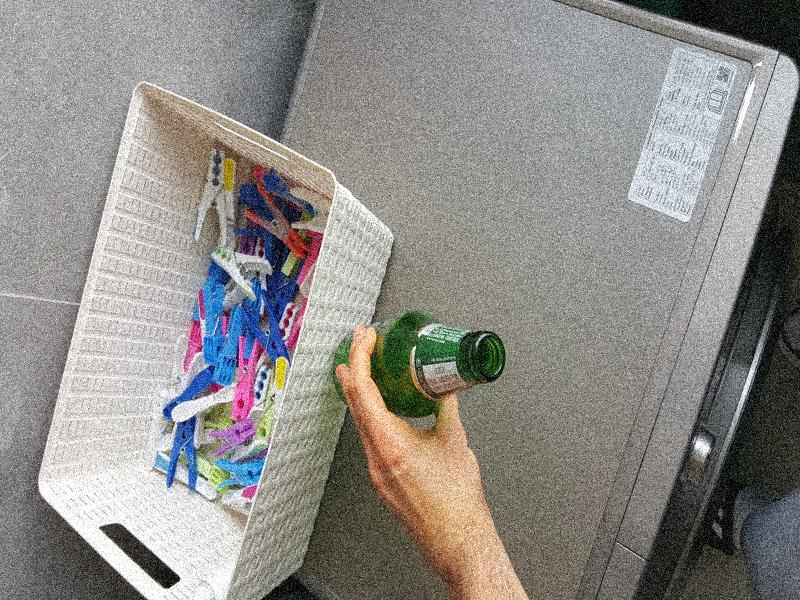Beer: (333, 311, 505, 416)
